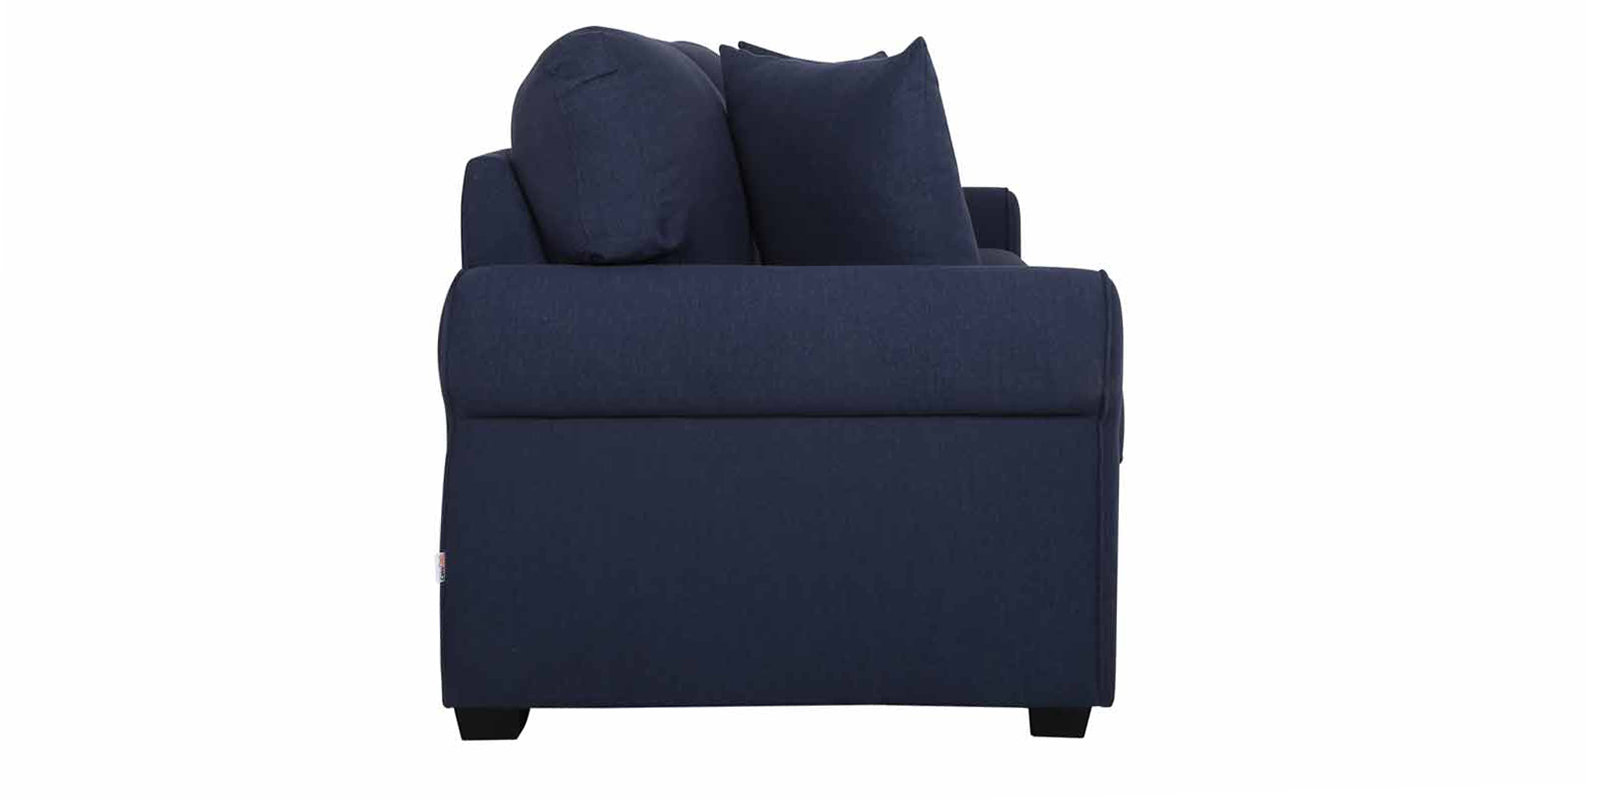Madeira Three Seater Sofa in Navy Blue Colour by CasaCraft: (431, 24, 1126, 739)
